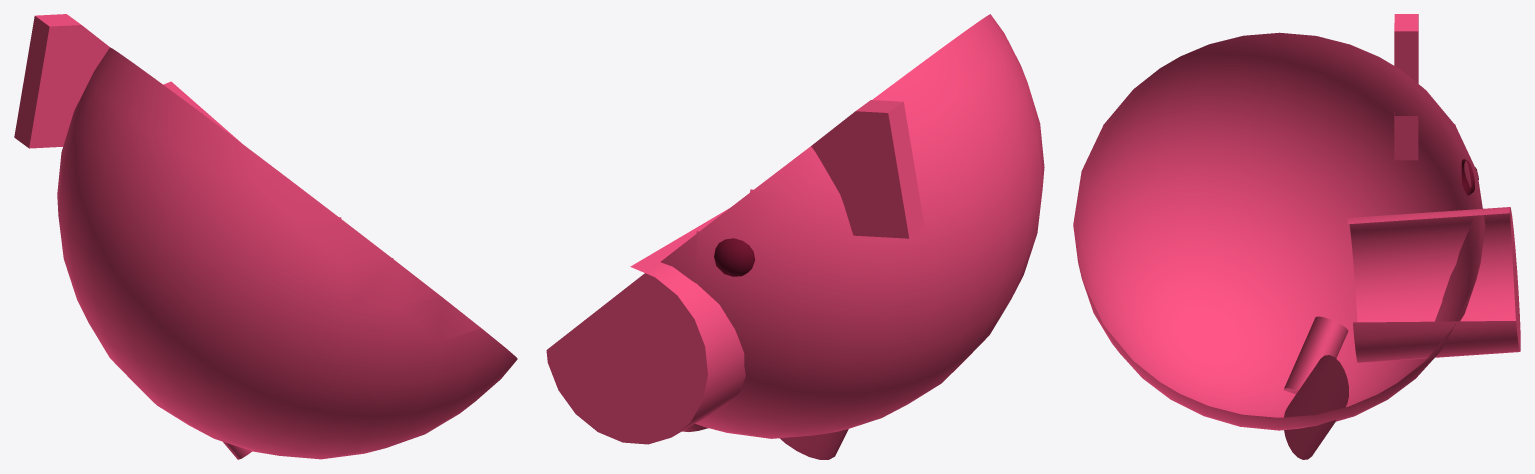
The model's file is pig_low.FBX.
The picture shows the model from 3 angles, left to right: view 1: azimuth 30°, elevation 25°; view 2: azimuth 150°, elevation 25°; view 3: azimuth 270°, elevation 25°; orthographic projection. The views are drawn at different scales.
Visible parts, largest first — view 1: pig_low; view 2: pig_low; view 3: pig_low.
Boxes of the visible parts, box(x1,y1,x2,y2) form: pig_low: box(14, 14, 517, 459); pig_low: box(546, 14, 1044, 459); pig_low: box(1073, 14, 1520, 459).
Bounding box in the file's own units: 0.5085 × 0.54 × 0.6463.
